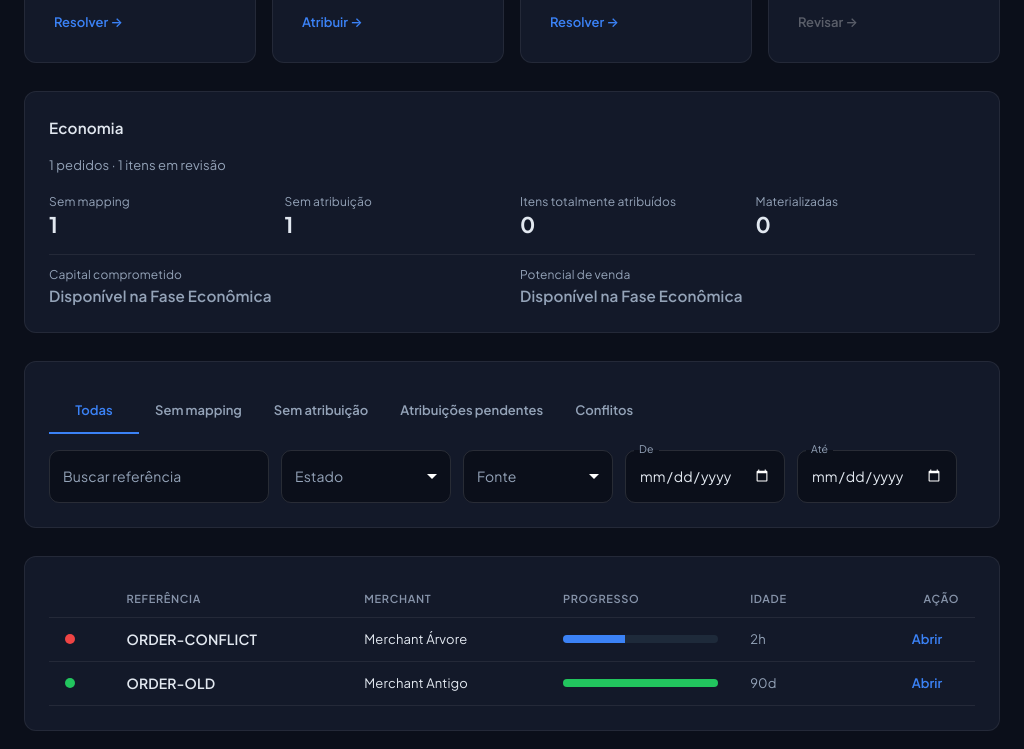
Test: UX-1B — Fila de Compras (estrutural, somente leitura) › abre o drawer com ações operacionais conforme allowedActions
The image size is (1024, 749).
(page scrolled)
What coordinates should you click on to do the following:
click the text "ORDER-CONFLICT"
I would click on:
 (192, 639)
Its box is [126,630,257,648].
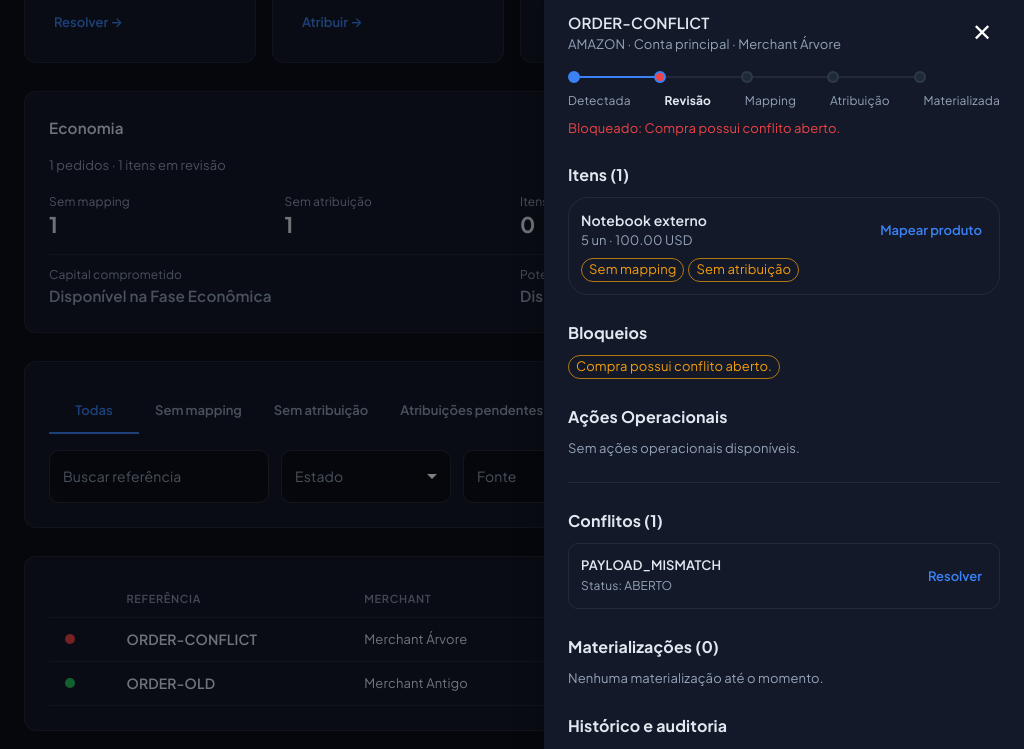
Result: the text "Notebook externo" is shown at [581,210,707,232]
Result: the heading "Bloqueios" is shown at [568,322,647,343]
Result: the text "Compra possui conflito aberto." is shown at [569,357,779,377]
